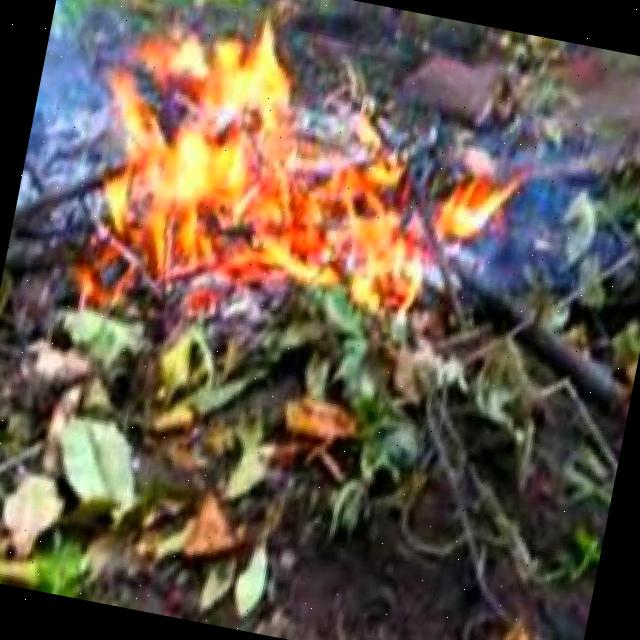fire: (72, 3, 524, 330)
